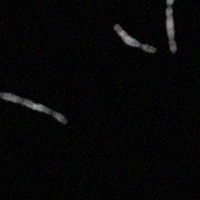chromosome: (0, 91, 67, 124), (113, 23, 157, 53), (166, 0, 176, 52)
